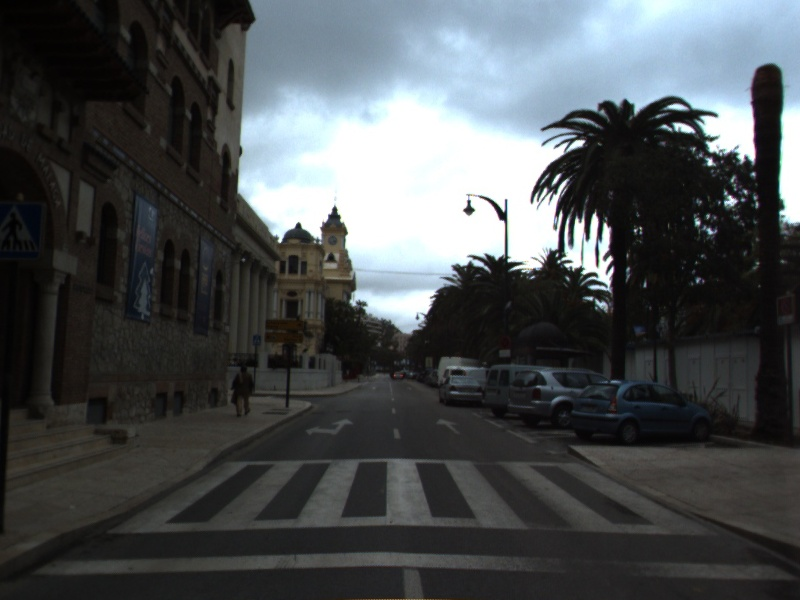STRAIGHT: (434, 416, 464, 437)
STRAIGHT_LEFT: (303, 417, 356, 438)
